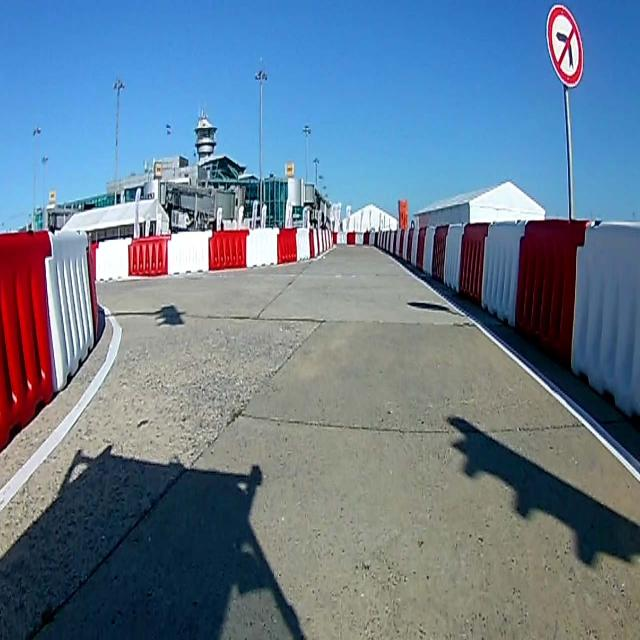soladonulmez: (546, 4, 584, 82)
